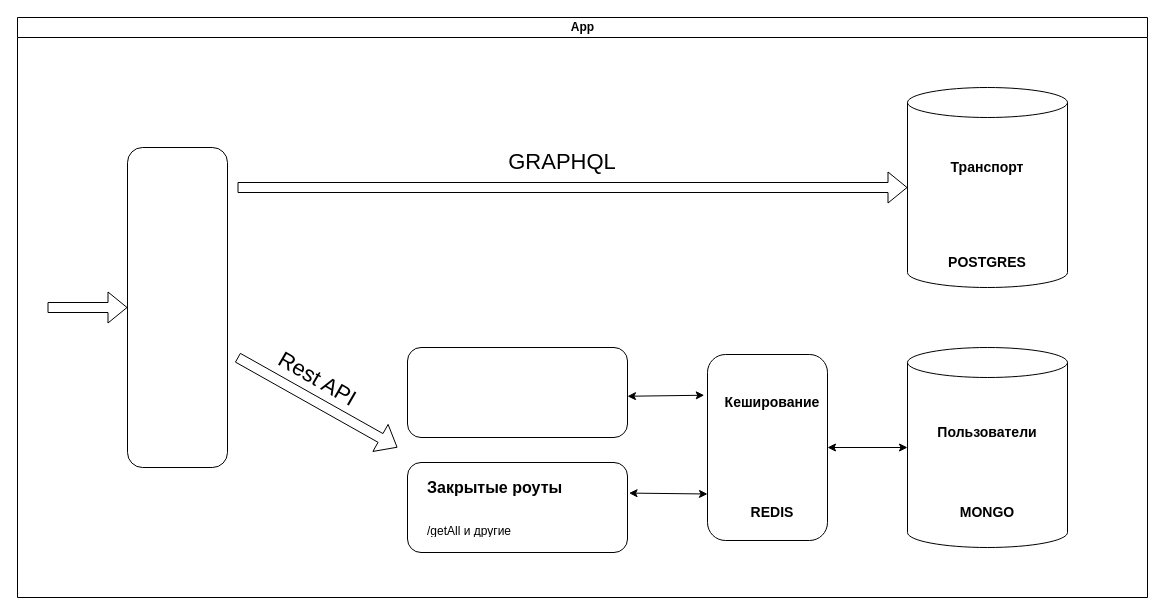
Image size: 1165x615. Some labels were removed from this diagram. The shapes that lost their labels are listed below. From the top down, each one's box as (x1, y1, x2, y2) in pixels, then its label:
(126, 146, 228, 468): NGINX
(406, 346, 628, 438): Публичные роуты /login /logout /refreshtoken /register
